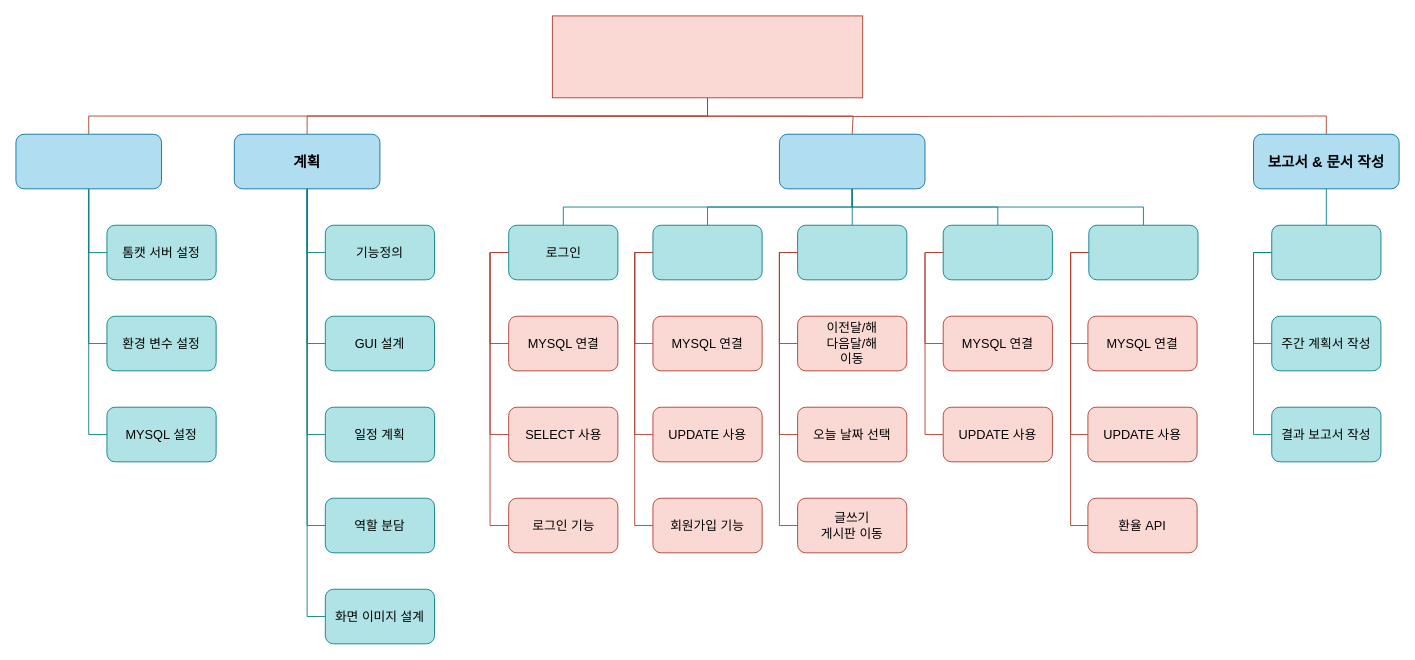
Some shapes in this 1415 by 660 pixel diagram are drawn without their labels. Each missing label, with the centre of its shape:
PPT 작성: the point at 1326,252
게시판: the point at 997,252
구현: the point at 852,161
여행 가계부: the point at 1143,252
웹 여행일지: the point at 707,56
캘린더: the point at 852,252
프로젝트 분석: the point at 88,161
회원가입: the point at 707,252
